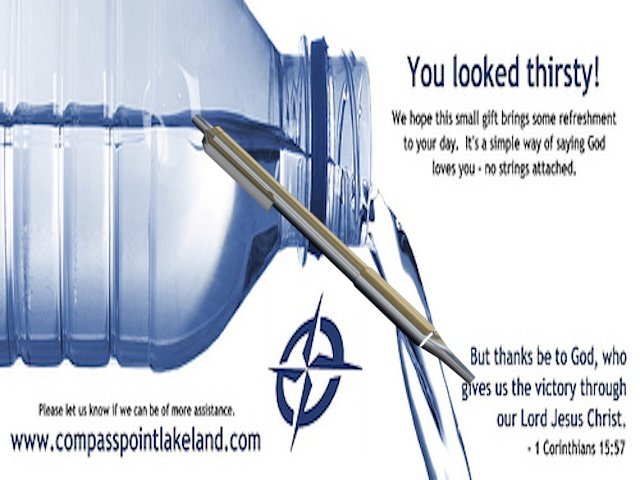pen: (185, 112, 480, 391)
